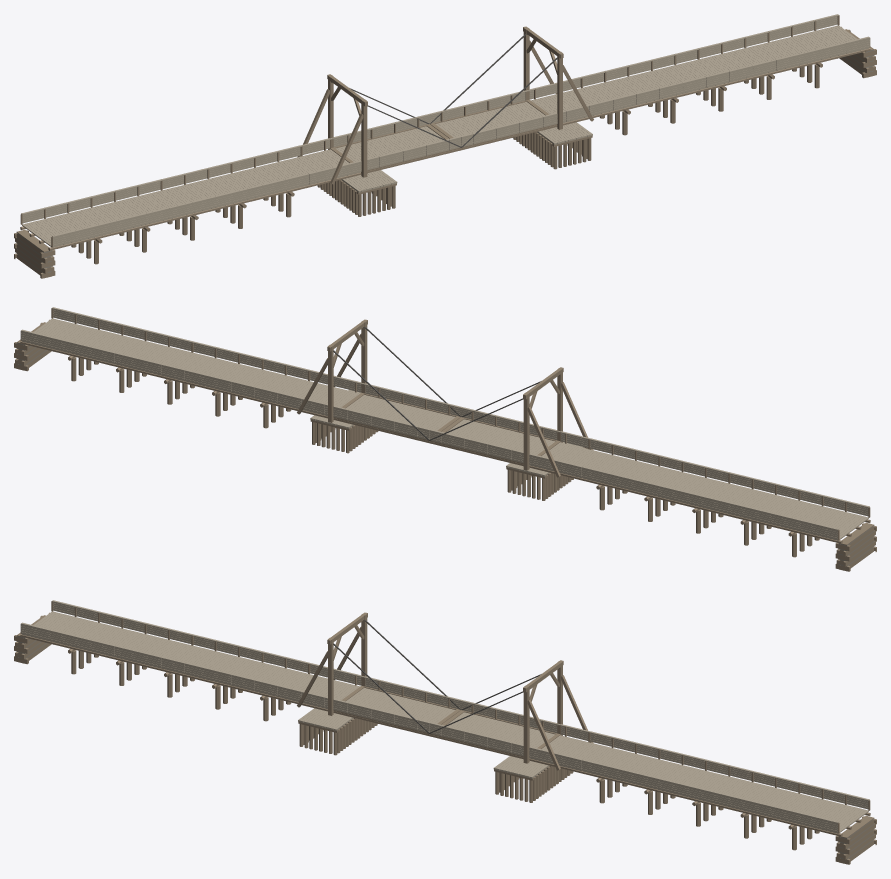
Rendered from dearborn_street_drawbridge__draw_1834.glb.
3 views of the same model, one above another, from view 1: azimuth 30°, elevation 25°; view 2: azimuth 150°, elevation 25°; view 3: azimuth 330°, elevation 25° (orthographic).
Visible parts, largest first — view 1: dearborn_street_drawbridge__draw_1834; view 2: dearborn_street_drawbridge__draw_1834; view 3: dearborn_street_drawbridge__draw_1834.
Part boxes in pixels (x1,y1,x2,y2): dearborn_street_drawbridge__draw_1834: [14, 14, 876, 278]; dearborn_street_drawbridge__draw_1834: [14, 307, 876, 571]; dearborn_street_drawbridge__draw_1834: [14, 600, 876, 864].
Bounding box in the file's own units: 78.05 × 9.17 × 7.96.
